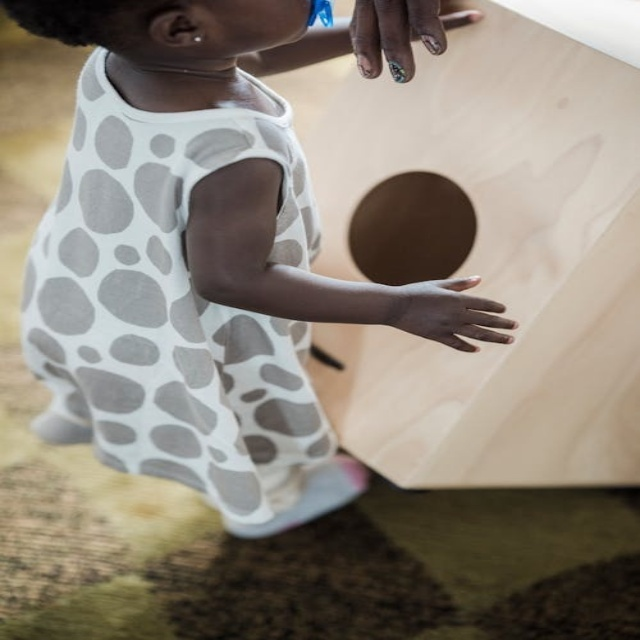Sin_guantes: (373, 274, 523, 354), (347, 0, 451, 83)
